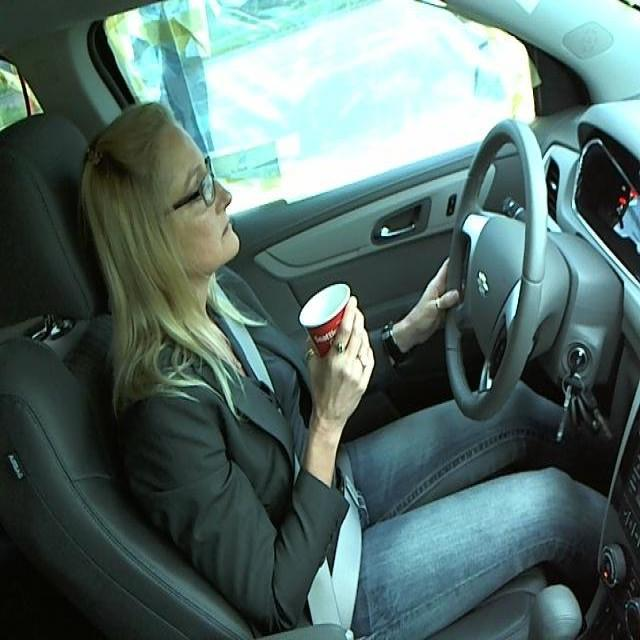drinking: (298, 282, 372, 386)
